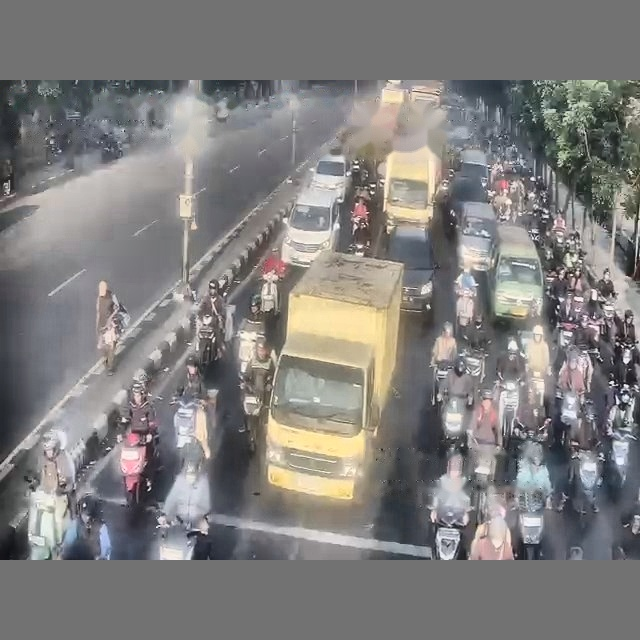Motor: (25, 477, 70, 559), (120, 431, 152, 505), (517, 490, 544, 559), (434, 505, 466, 559), (156, 518, 194, 559), (237, 318, 264, 375), (242, 384, 263, 453), (499, 380, 520, 449), (442, 396, 466, 451), (196, 313, 217, 368), (461, 346, 486, 383), (432, 362, 452, 405)
Truk: (264, 251, 403, 503), (383, 143, 441, 231)
